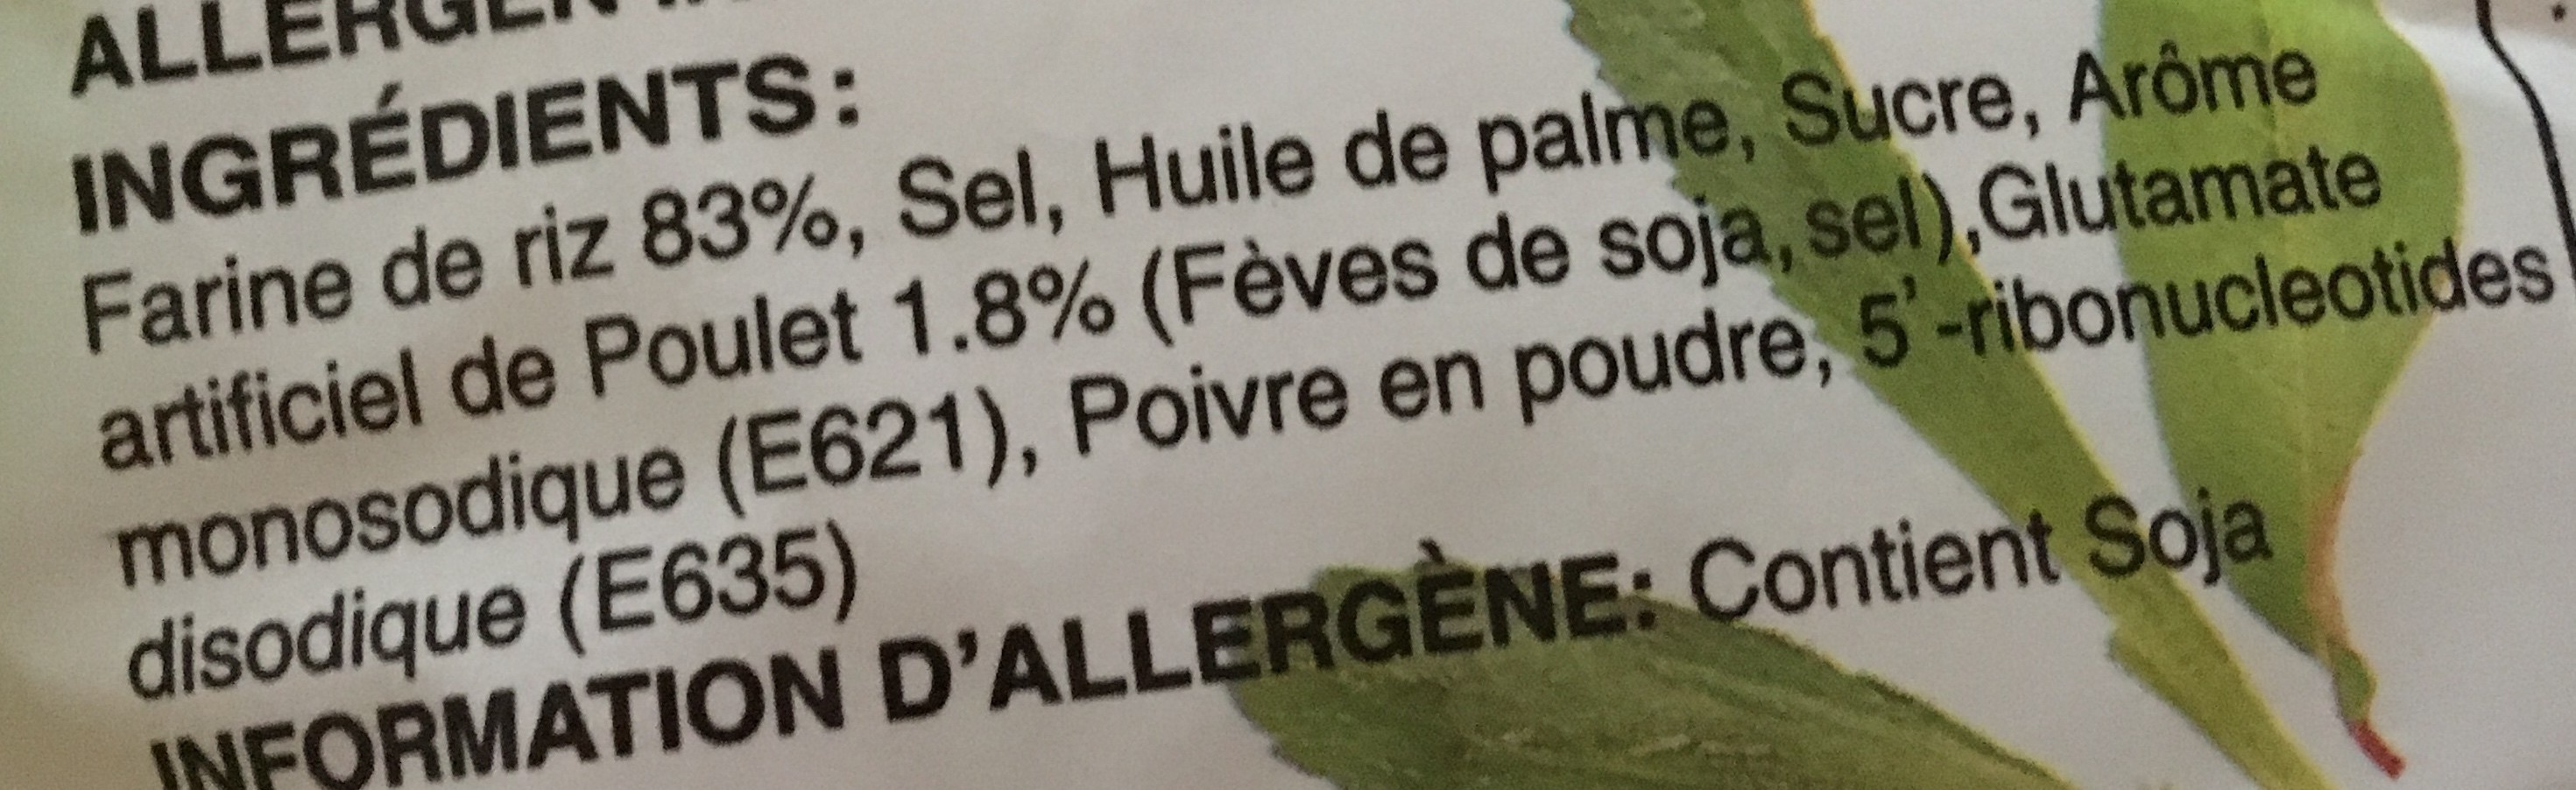ingredients: (25, 30, 2576, 700)
